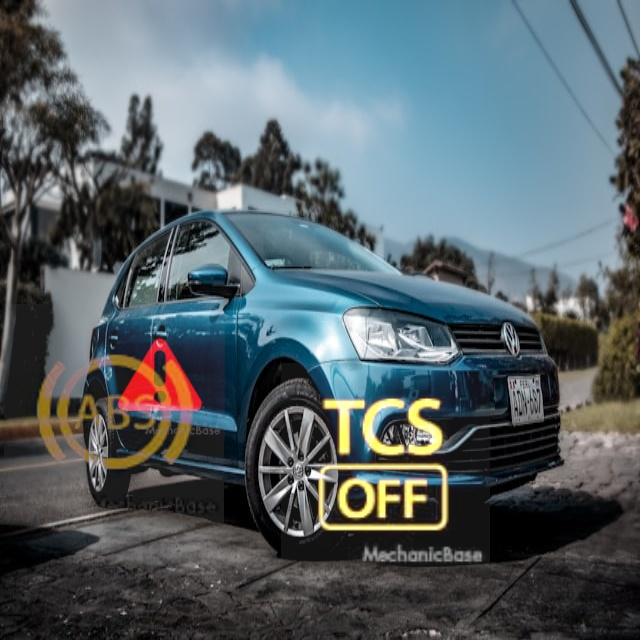symbol: (4, 304, 224, 524), (281, 363, 490, 572), (94, 310, 225, 441)
